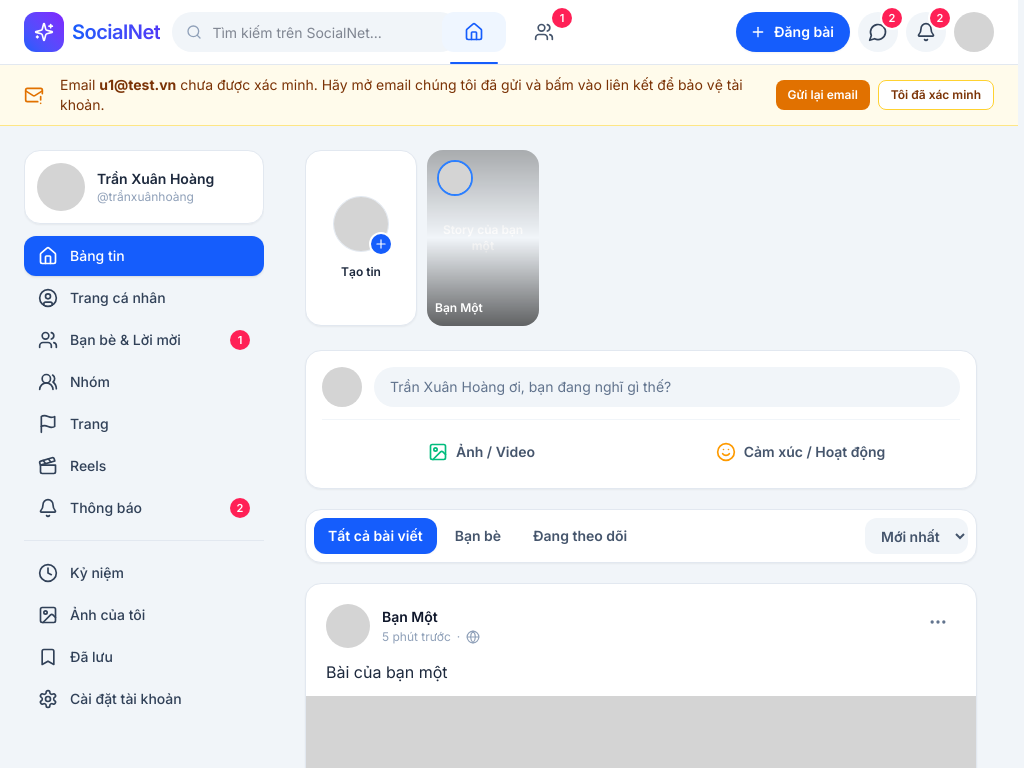
Test: Banner nhắc xác minh › "Gửi lại email" → gọi API + toast thành công
Click the button "Gửi lại email".
click(823, 95)  # box top-left (776, 80), bottom-right (870, 110)
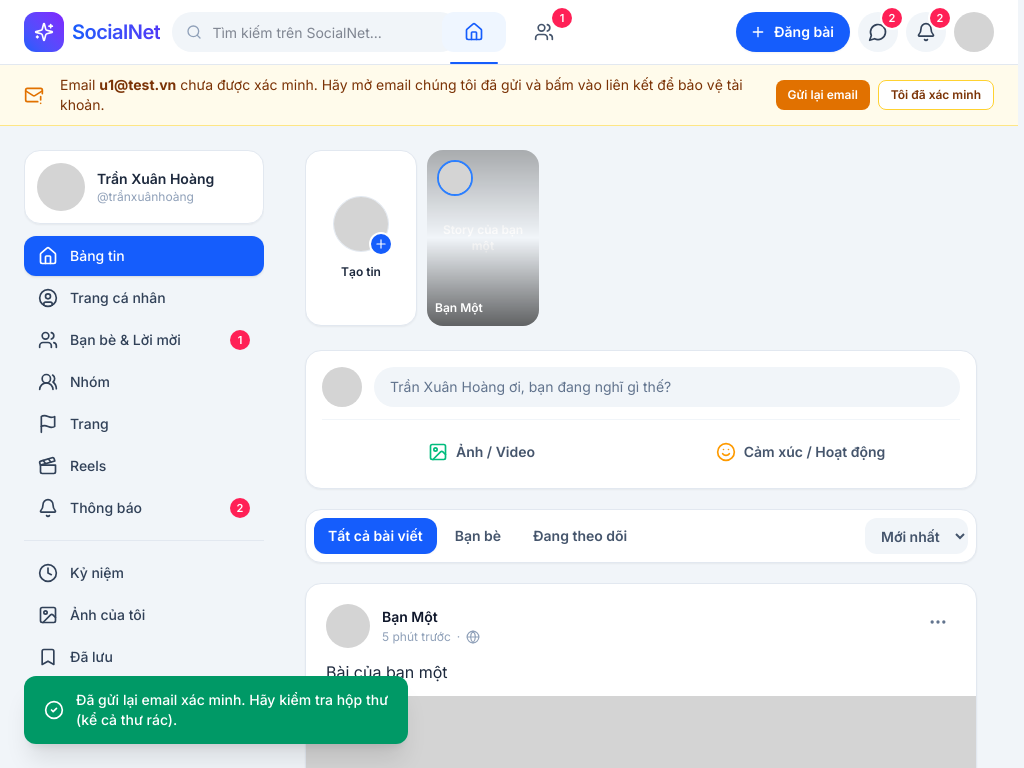
Check: the text "Đã gửi lại email xác minh" is shown, box top-left (76, 691), bottom-right (388, 728)
